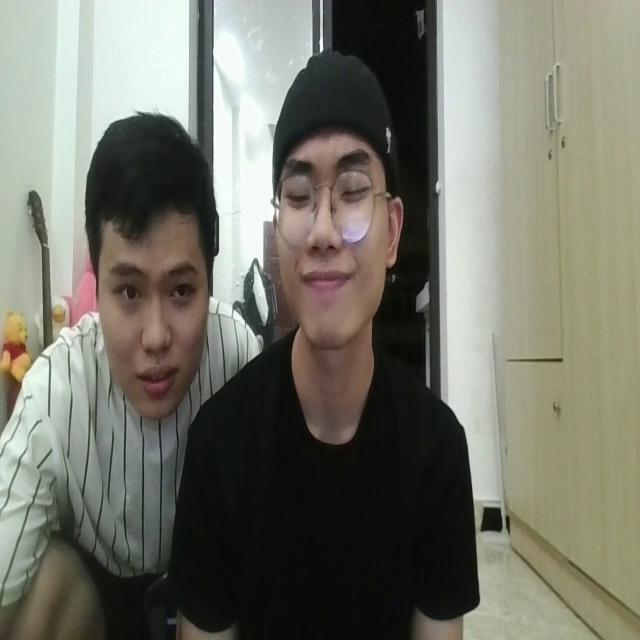extra_person: (46, 109, 223, 570)
student: (201, 59, 469, 640)
